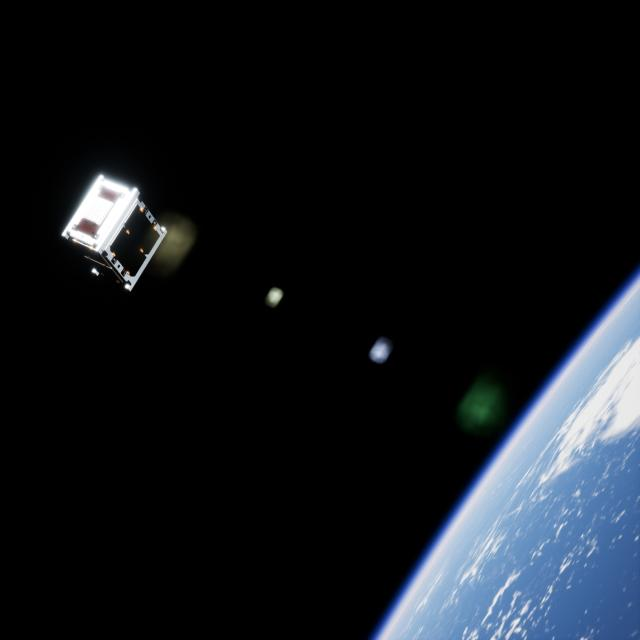medium_debris: (52, 169, 175, 298)
